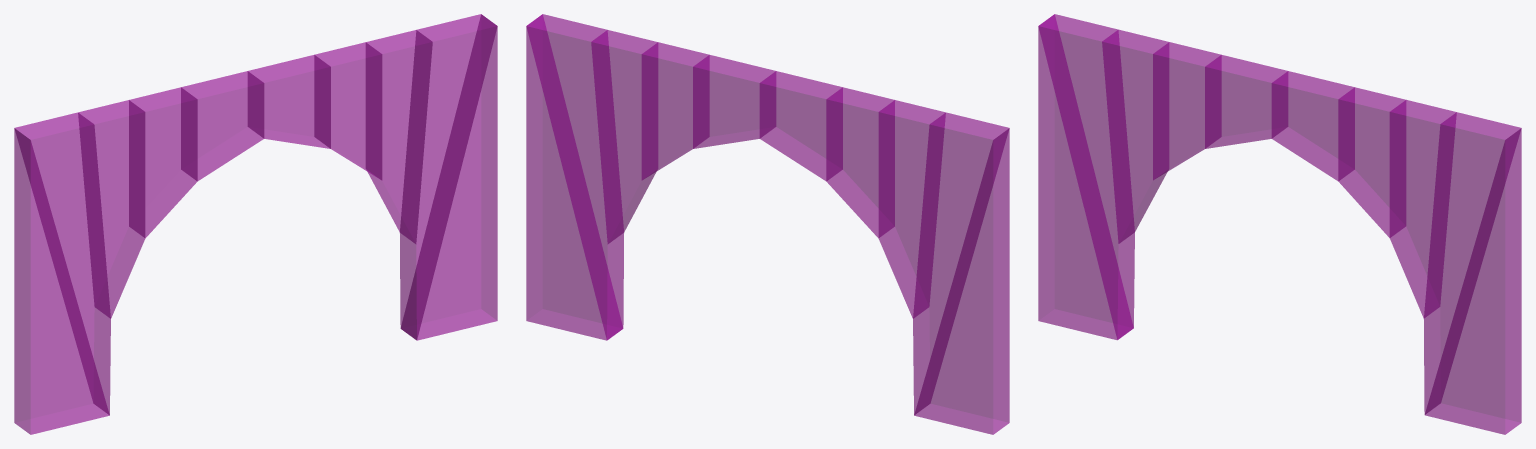
Rendered from SM_Bld_Wall_Door_Round_02_Collision.fbx.
3 views of the same model, side by side, from view 1: azimuth 30°, elevation 25°; view 2: azimuth 150°, elevation 25°; view 3: azimuth 330°, elevation 25° (orthographic).
Visible parts, largest first — view 1: SM_Bld_Wall_Door_Round_02_Collision; view 2: SM_Bld_Wall_Door_Round_02_Collision; view 3: SM_Bld_Wall_Door_Round_02_Collision.
Part boxes in pixels (x1,y1,x2,y2): SM_Bld_Wall_Door_Round_02_Collision: (14, 14, 497, 434); SM_Bld_Wall_Door_Round_02_Collision: (526, 14, 1009, 434); SM_Bld_Wall_Door_Round_02_Collision: (1038, 14, 1521, 434).
Bounding box in the file's own units: 506 × 305 × 30.9.
